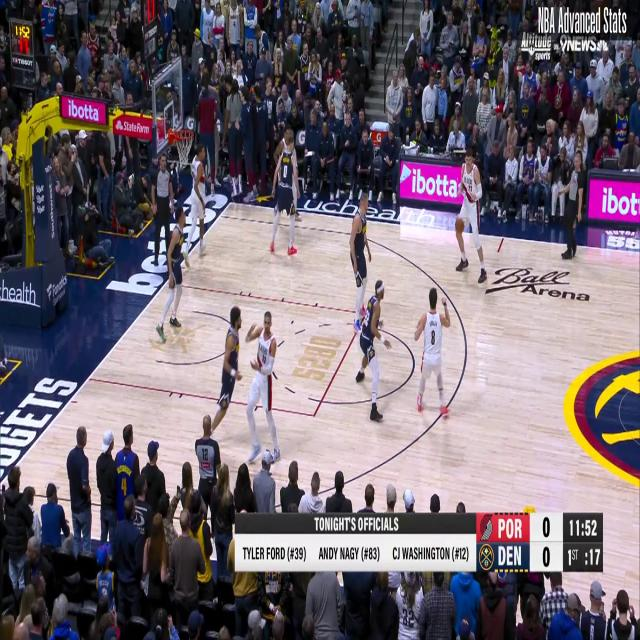ball: (452, 215, 466, 237)
judge: (562, 154, 586, 266), (153, 152, 175, 272), (194, 420, 221, 506)
player: (243, 315, 280, 447), (415, 286, 451, 418), (357, 287, 392, 421), (454, 145, 485, 286), (268, 127, 300, 260), (157, 214, 189, 330), (347, 185, 372, 324), (211, 312, 242, 421), (184, 145, 210, 267), (274, 125, 298, 224)
